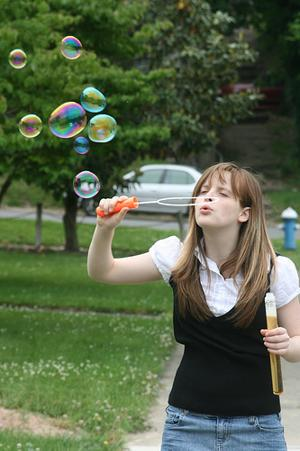person: (88, 162, 300, 451)
